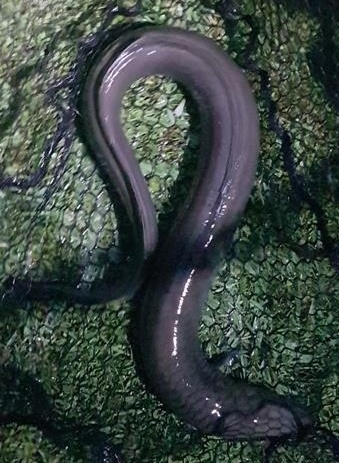Anguilla anguilla: (20, 20, 319, 443)
